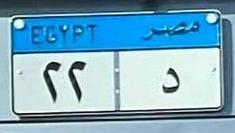2: (38, 59, 62, 105), (66, 59, 89, 105)
daal: (157, 65, 184, 97)
